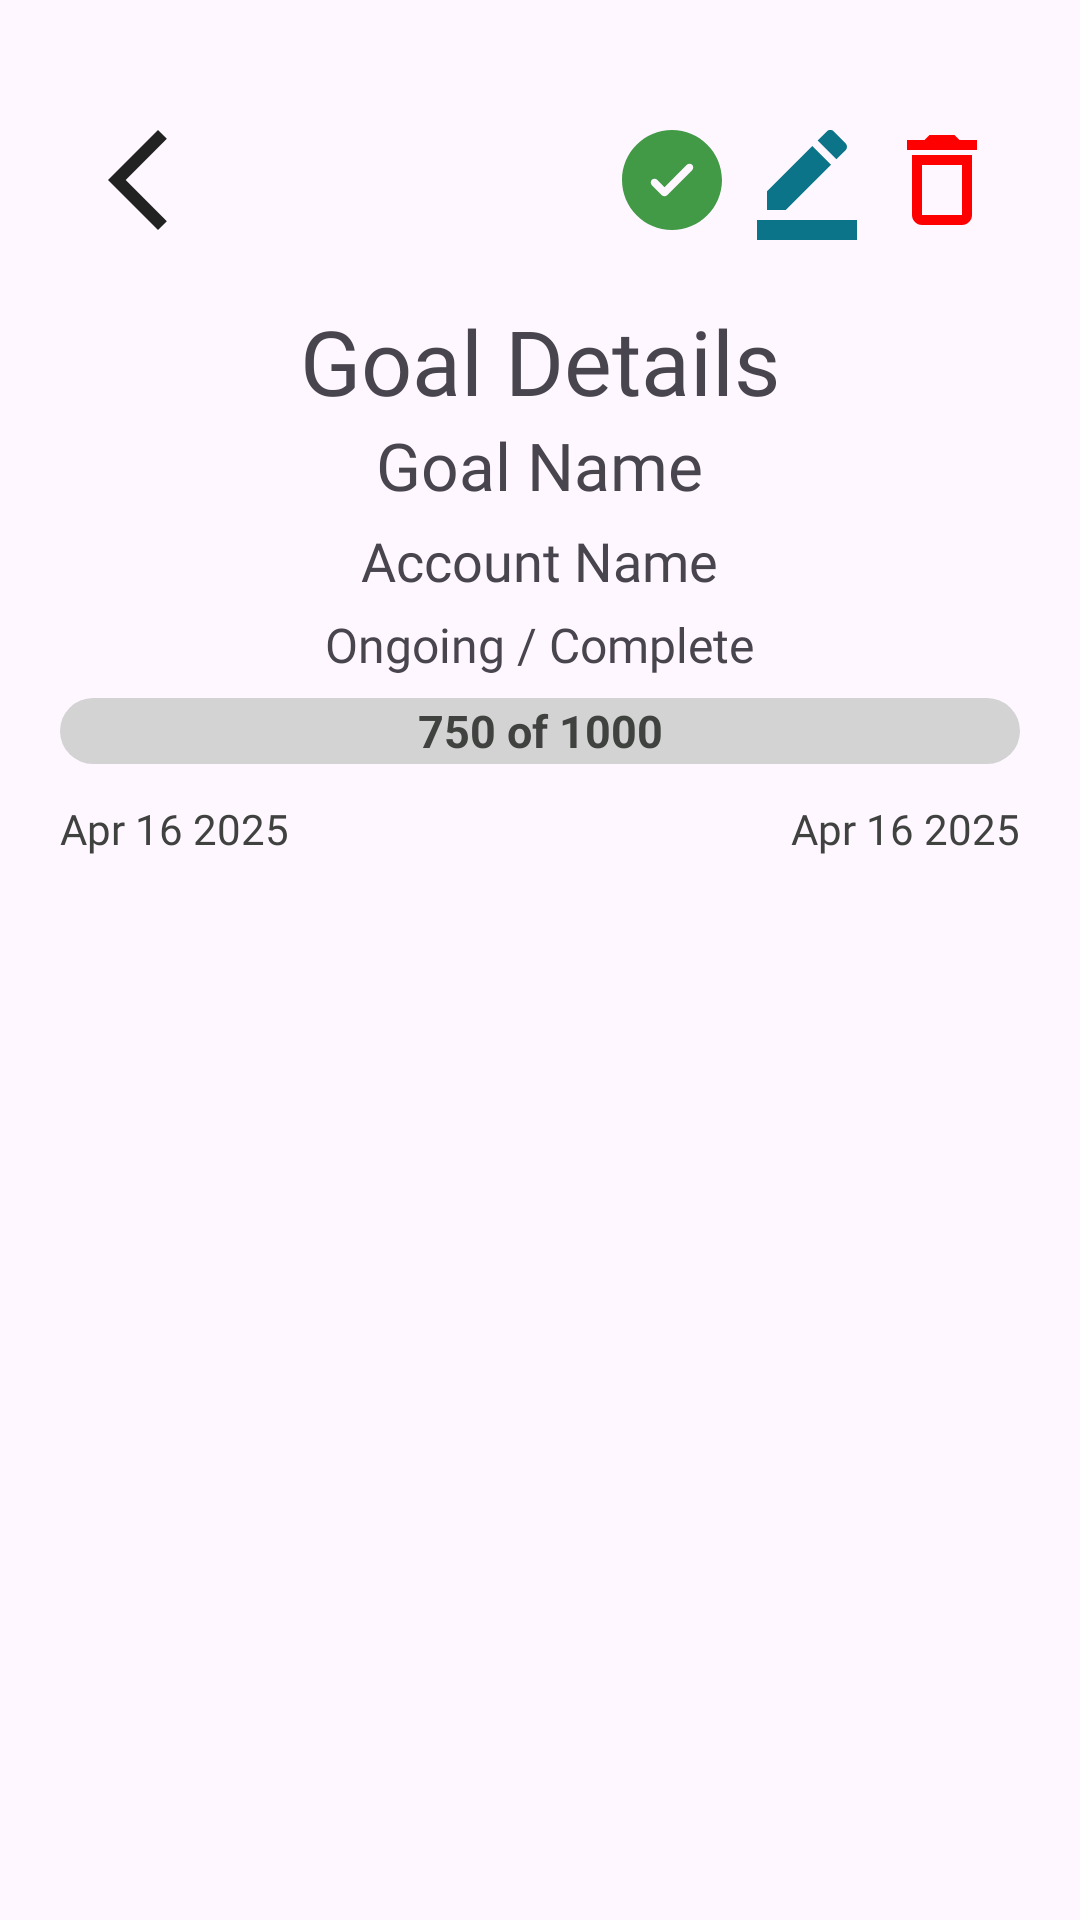

Icon click points for this 1080x1920 phone screenshot, format (x,y):
Back Button: (137,180)
Check Button: (672,180)
Delete Button: (942,180)
Edit Button: (807,185)
